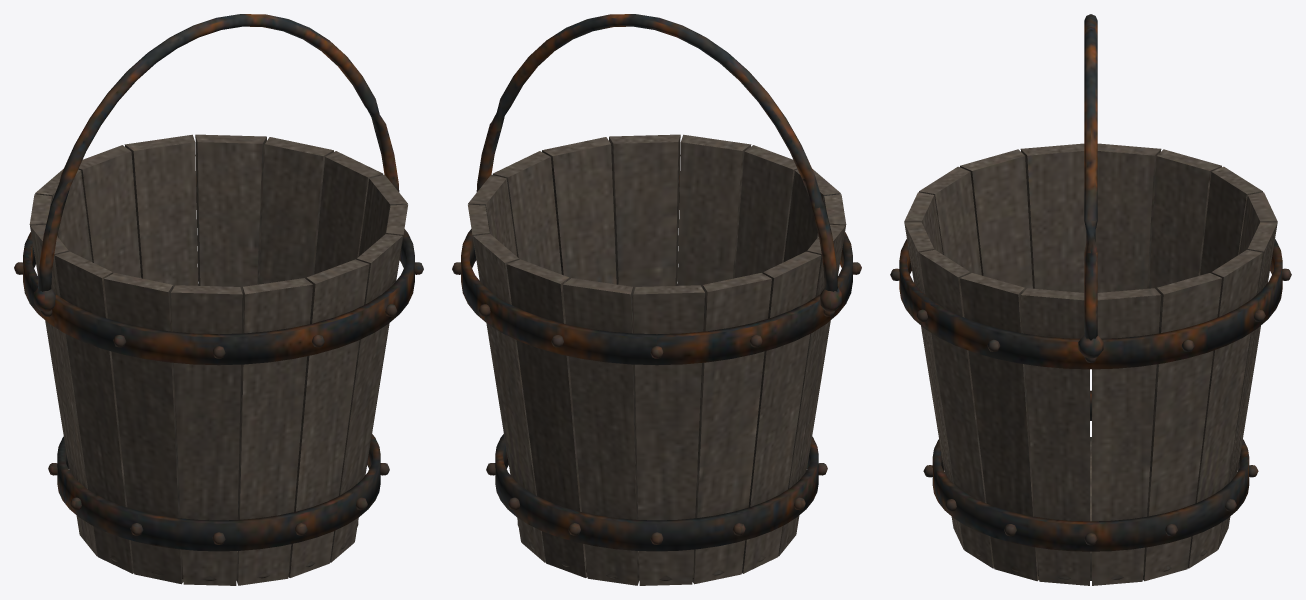
File: bucket.glb
3 renders of one model, left to right at view 1: azimuth 30°, elevation 25°; view 2: azimuth 150°, elevation 25°; view 3: azimuth 270°, elevation 25°, orthographic. The views are drawn at different scales.
Parts seen in each view (by area): view 1: bucket; view 2: bucket; view 3: bucket.
Part boxes in pixels (x1,y1,x2,y2): bucket: (14, 14, 423, 585); bucket: (452, 14, 861, 585); bucket: (890, 14, 1291, 585).
Size of the model in its own units: 0.4955 by 0.66 by 0.482.
Materials: 1 (1 with a texture image).
